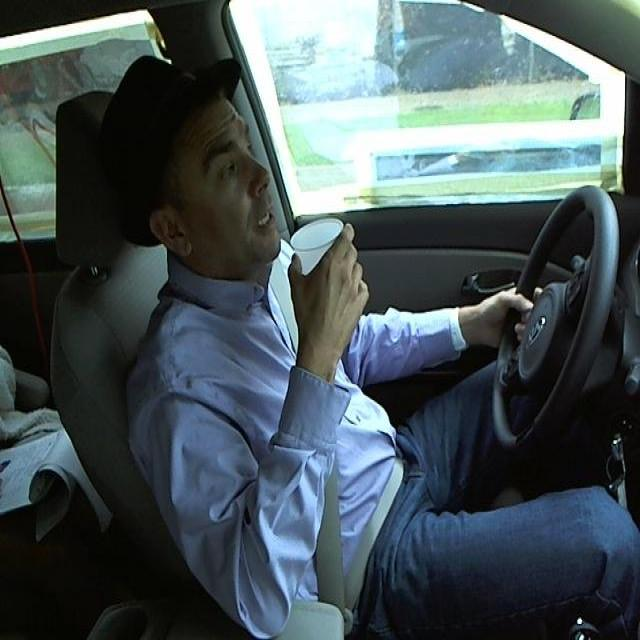drinking: (288, 218, 354, 312)
